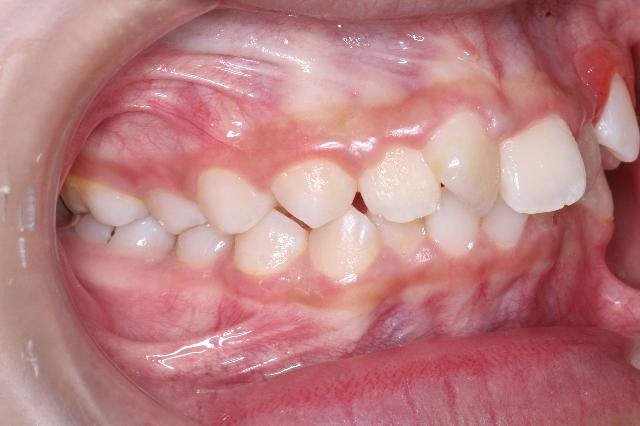canine class II 1/4: (234, 146, 380, 292)
molar class I: (61, 168, 170, 274)
